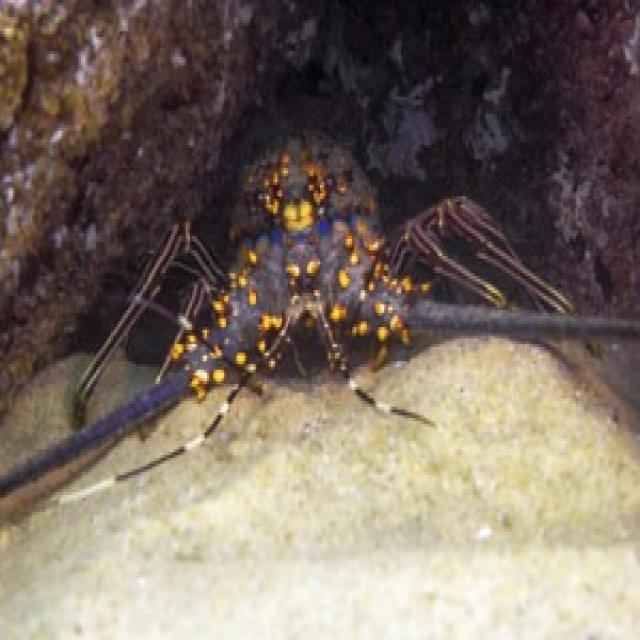lobsters: (68, 72, 637, 488)
